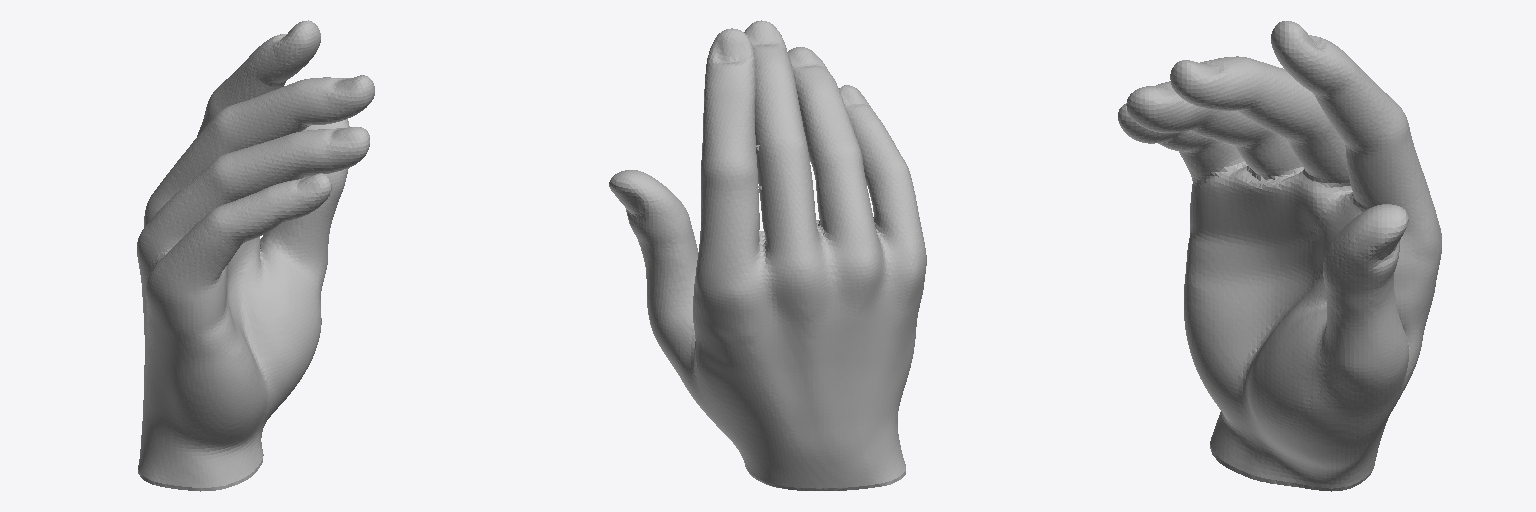
The robot description file, URDF, robot "root":
<robot name="root">
  <link name="link_001">
    <visual>
      <origin xyz="0 0 0" rpy="0 0 0"/>
      <geometry>
        <mesh filename="hand.obj" scale="1.0000E+00 1.0000E+00 1.0000E+00"/>
      </geometry>
      <material name="">
        <color rgba="7.50E-01 7.50E-01 7.50E-01 1"/>
      </material>
    </visual>
    <collision>
      <origin xyz="0 0 0" rpy="0 0 0"/>
      <geometry>
        <mesh filename="hand.obj" scale="1.0000E+00 1.0000E+00 1.0000E+00"/>
      </geometry>
    </collision>
    <inertial>
      <mass value="0.16"/> <!-- 质量：0.1kg -->
    </inertial>
  </link>
</robot>

--- Render facts (derived) ---
The picture shows the robot from 3 angles, left to right: view 1: azimuth 30°, elevation 25°; view 2: azimuth 150°, elevation 25°; view 3: azimuth 270°, elevation 25°; orthographic projection.
Model root with 1 links and 0 joints (none), rooted at link_001, posed all joints at 0.
Visible links, largest first — view 1: link_001; view 2: link_001; view 3: link_001.
Boxes of the visible links, x1,y1,x2,y2 form: link_001: [137, 20, 374, 491]; link_001: [609, 20, 926, 490]; link_001: [1118, 21, 1441, 491].
Size in the robot's own frame: 0.0878 by 0.0826 by 0.1379 metres.
Meshes: 1 distinct files referenced, 1 mesh visuals loaded (1 OBJ).
